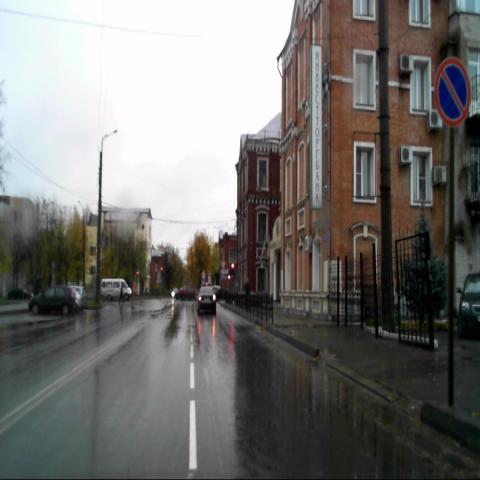3_28: (434, 58, 470, 127)
